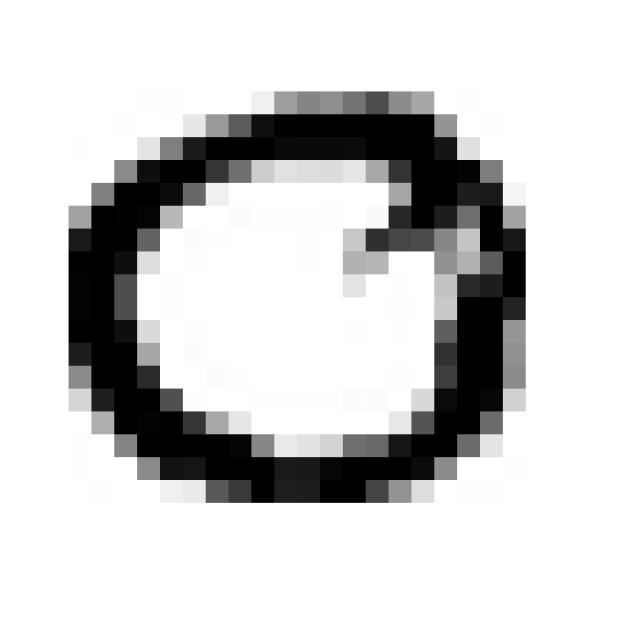5 -five-: (52, 69, 542, 522)
